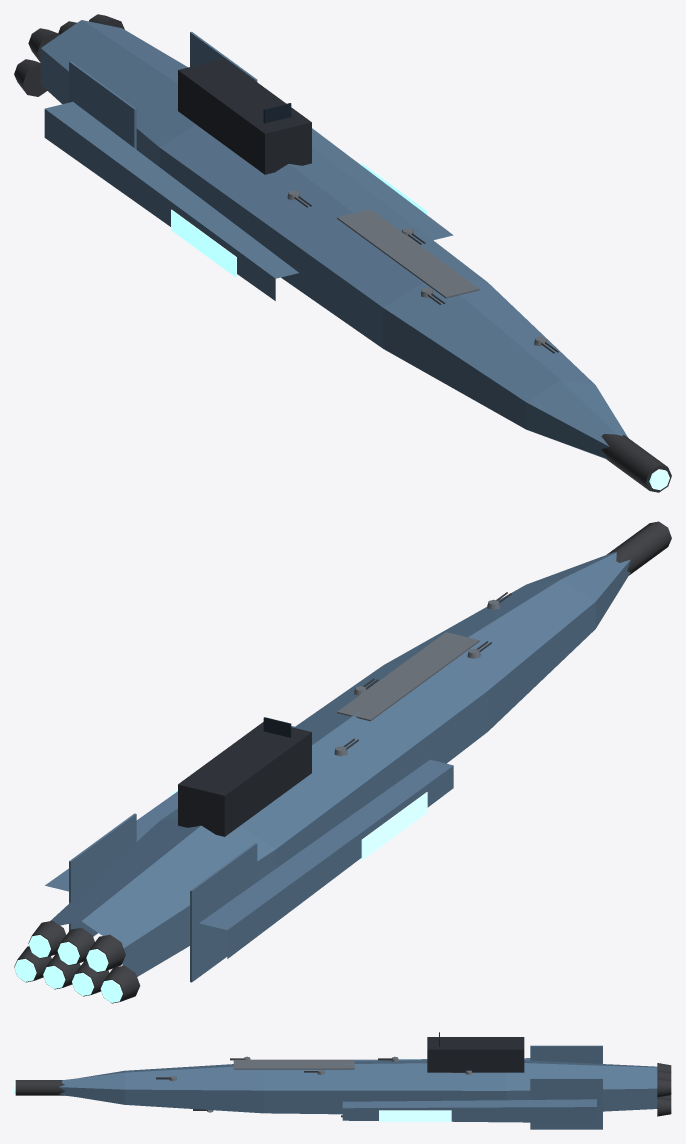
The model's file is space_ship_battleship_mk5.glb.
3 views of the same model, one above another, from view 1: azimuth 30°, elevation 25°; view 2: azimuth 150°, elevation 25°; view 3: azimuth 270°, elevation 25° (orthographic). The views are drawn at different scales.
Parts seen in each view (by area): view 1: body, main_gun, hangar_r, engine_0; view 2: body, main_gun, hangar_r, engine_1, engine_0, engine_3, engine_5, engine_6, engine_2, engine_4; view 3: body, hangar_l, main_gun, engine_5, engine_6.
Part boxes in pixels (x1,y1,x2,y2): body: (40,20,628,459); main_gun: (601,434,671,492); hangar_r: (171,209,236,277); engine_0: (14,59,47,96); body: (45,552,630,982); main_gun: (607,521,671,575); hangar_r: (361,792,427,860); engine_1: (86,934,125,972); engine_0: (100,965,140,1003); engine_3: (57,927,94,965); engine_5: (28,920,65,958); engine_6: (14,946,51,982); engine_2: (71,960,109,996); engine_4: (42,953,80,989); body: (59,1032,657,1129); hangar_l: (379,1110,451,1121); main_gun: (14,1080,65,1095); engine_5: (657,1078,671,1097); engine_6: (657,1097,671,1116).
Size of what is drawn, in the model's own units: 28.5 by 19.82 by 153.
